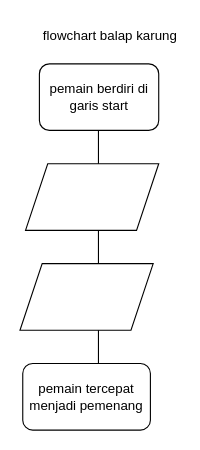
The diagram is 200 pixels wide and 450 high, and some of its shapes have lost their labels. Here are the shapes that lost their labels. From the top down, the centre of each, then its label:
point (91, 196): pemain memasuki kaki ke karung
point (86, 296): pemain mulai melompat dari garis start menuju garis finish
